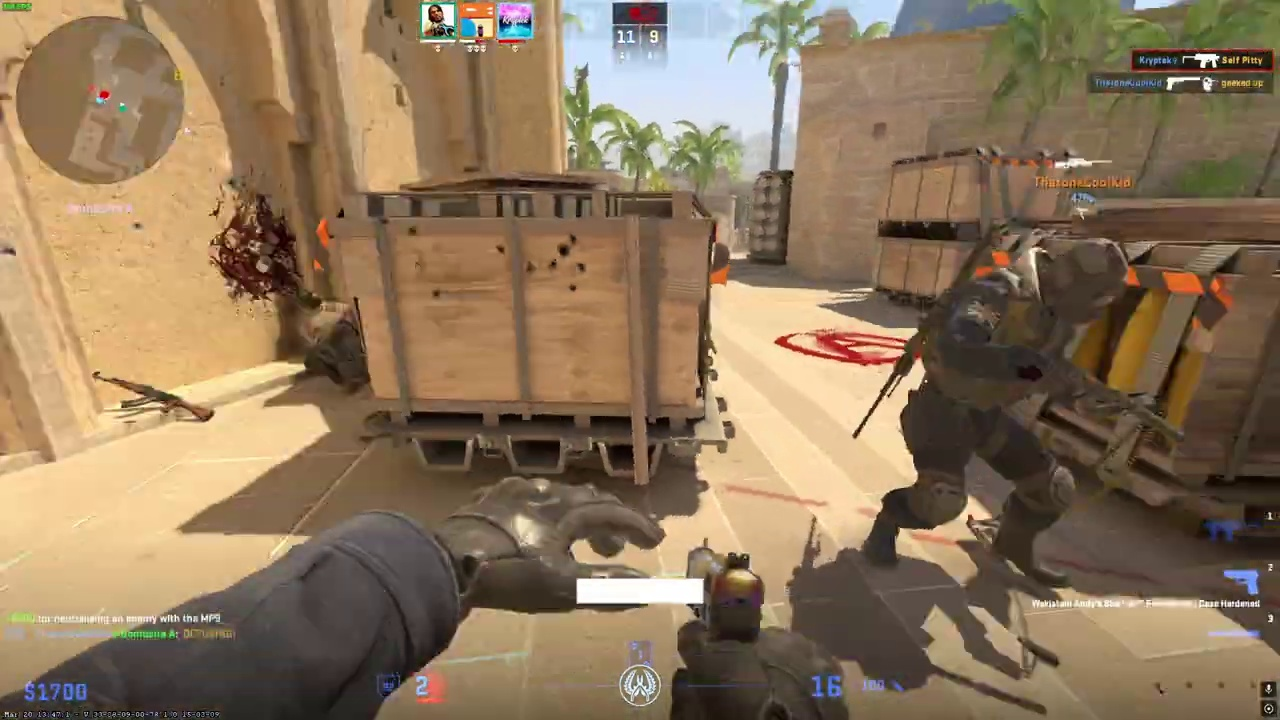CT: (877, 237, 1181, 589)
